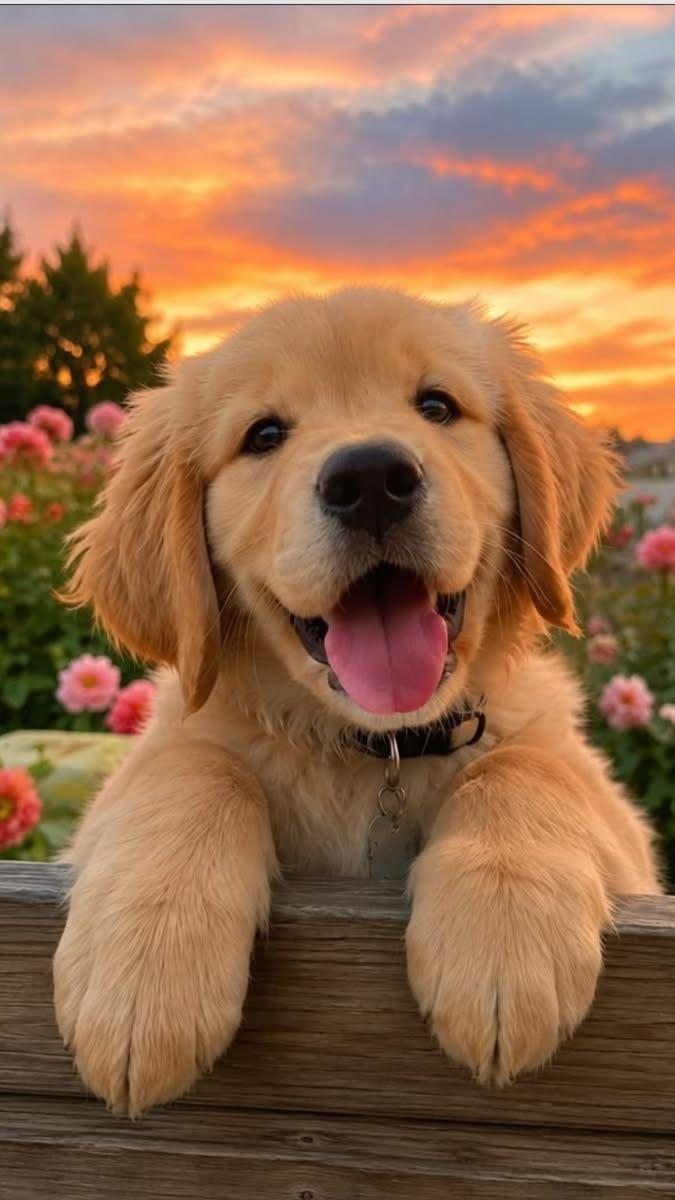puppy-dog: (48, 281, 665, 1119)
